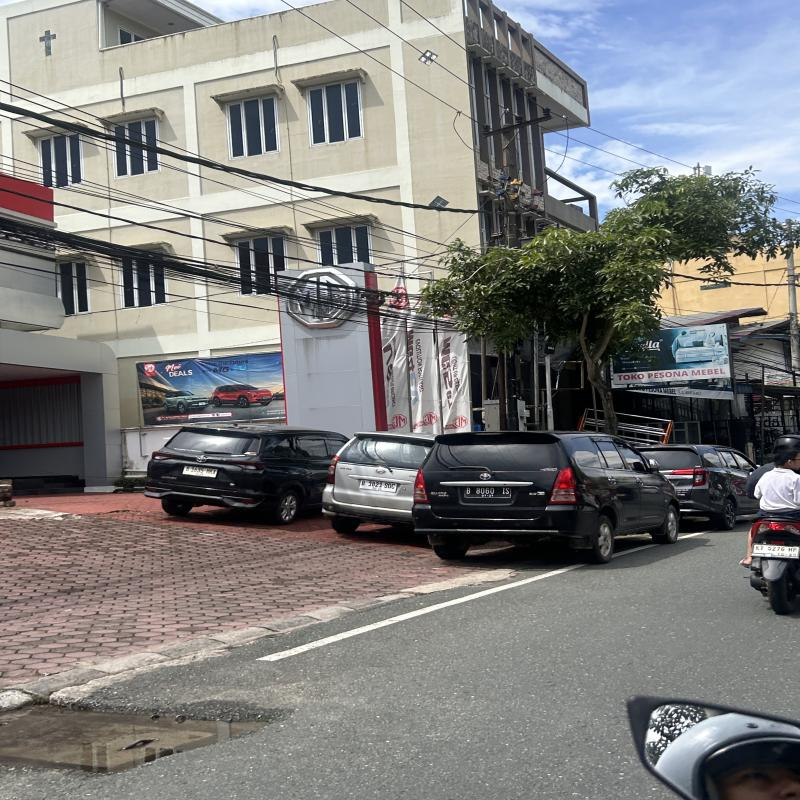license plate on a car: (464, 486, 510, 499), (359, 480, 398, 492), (182, 465, 218, 478)
